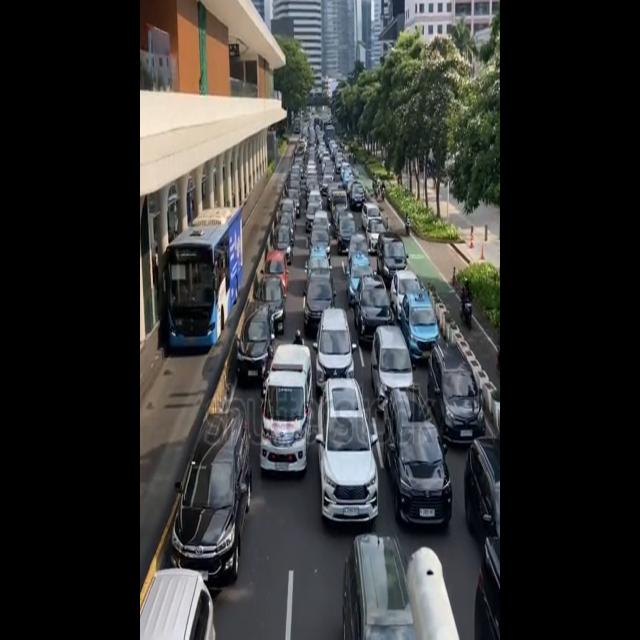Ambulance: (255, 326, 315, 476)
